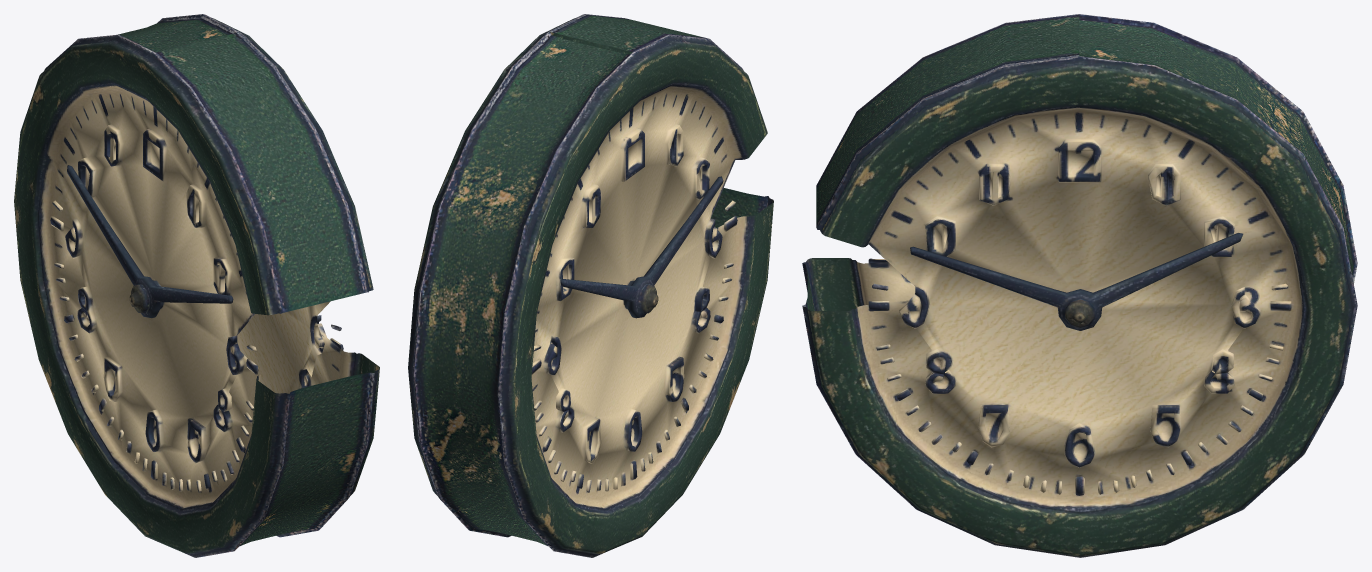
File: OfficeClock.fbx
3 renders of one model, left to right at view 1: azimuth 30°, elevation 25°; view 2: azimuth 150°, elevation 25°; view 3: azimuth 270°, elevation 25°, orthographic. The views are drawn at different scales.
Parts seen in each view (by area): view 1: tripo_node_b771c104-0f86-401b-9d65-06ad591a194c; view 2: tripo_node_b771c104-0f86-401b-9d65-06ad591a194c; view 3: tripo_node_b771c104-0f86-401b-9d65-06ad591a194c.
Part boxes in pixels (x1,y1,x2,y2): tripo_node_b771c104-0f86-401b-9d65-06ad591a194c: [14, 14, 379, 557]; tripo_node_b771c104-0f86-401b-9d65-06ad591a194c: [408, 14, 773, 557]; tripo_node_b771c104-0f86-401b-9d65-06ad591a194c: [802, 14, 1357, 557].
Size of the model in its own units: 27.98 by 99.61 by 100.
Materials: 1 (1 with a texture image).
